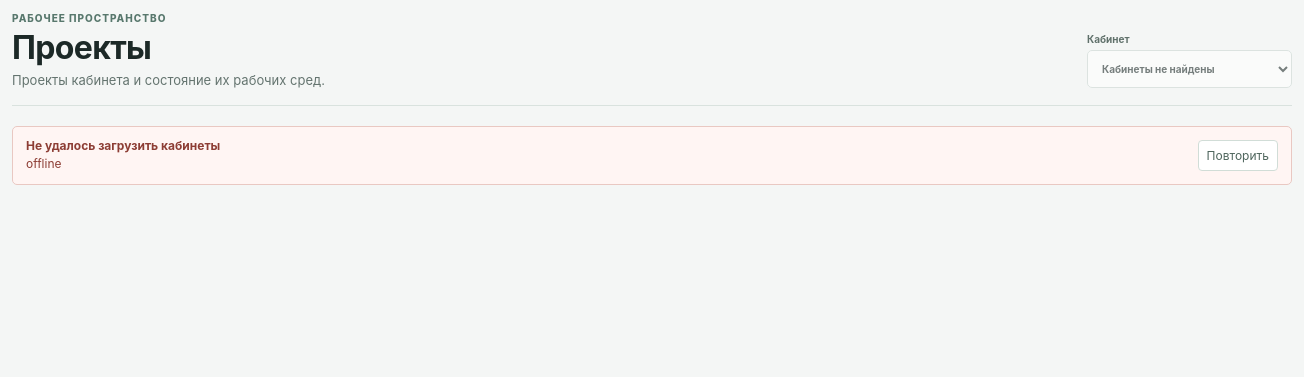
ProjectsOverview acceptance surface › retries cabinet loading after an error and removes stale project rows
The image size is (1304, 377).
Click the button "Повторить": (1238, 156) [1198,140,1278,171]
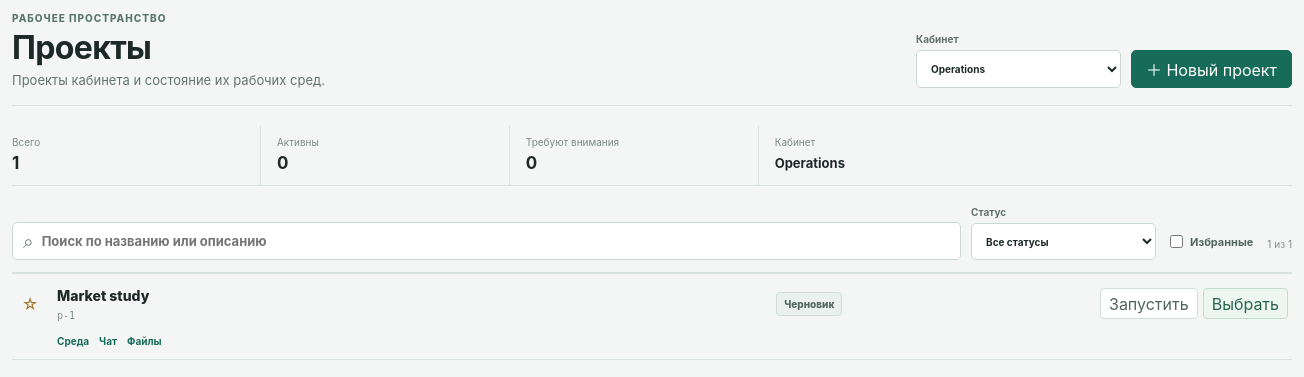
Now the text "Market study" is shown, box [57,287,149,304]
